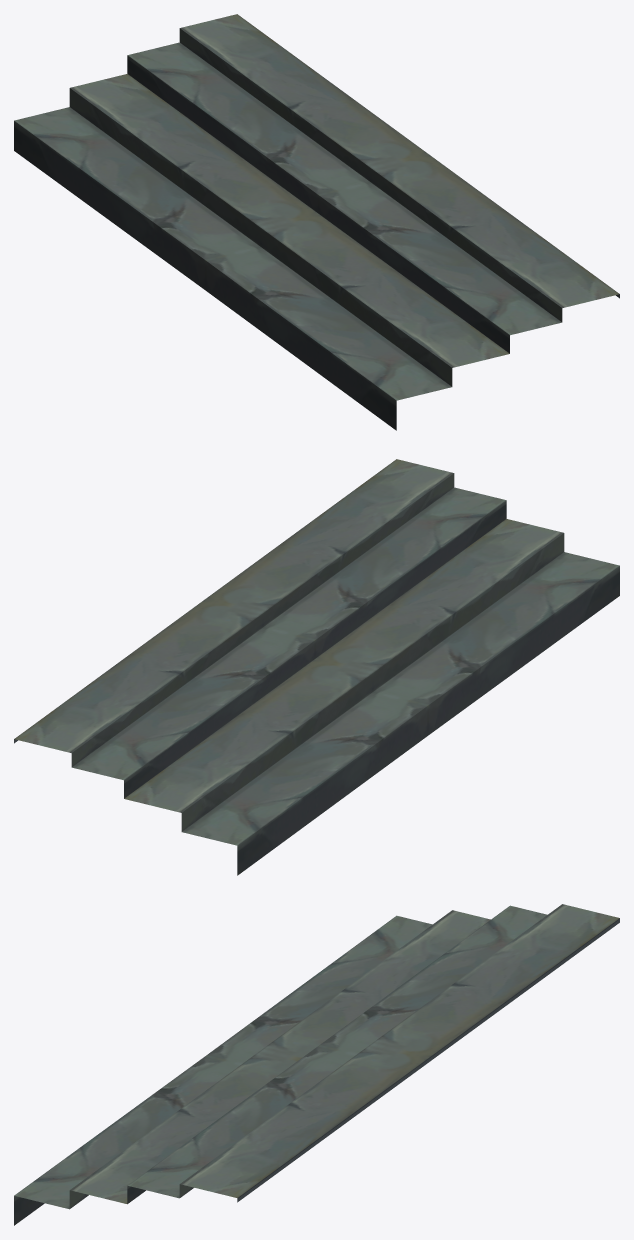
Rendered from fb_fyqc_jz_02_h.FBX.
The picture shows the model from 3 angles, top to bottom: view 1: azimuth 30°, elevation 25°; view 2: azimuth 150°, elevation 25°; view 3: azimuth 330°, elevation 25°; orthographic projection.
Visible parts, largest first — view 1: Object001; view 2: Object001; view 3: Object001.
Boxes of the visible parts, x1,y1,x2,y2 form: Object001: (14, 14, 619, 430); Object001: (14, 459, 619, 875); Object001: (14, 904, 619, 1225).
Bounding box in the file's own units: 540 × 190 × 1603.
